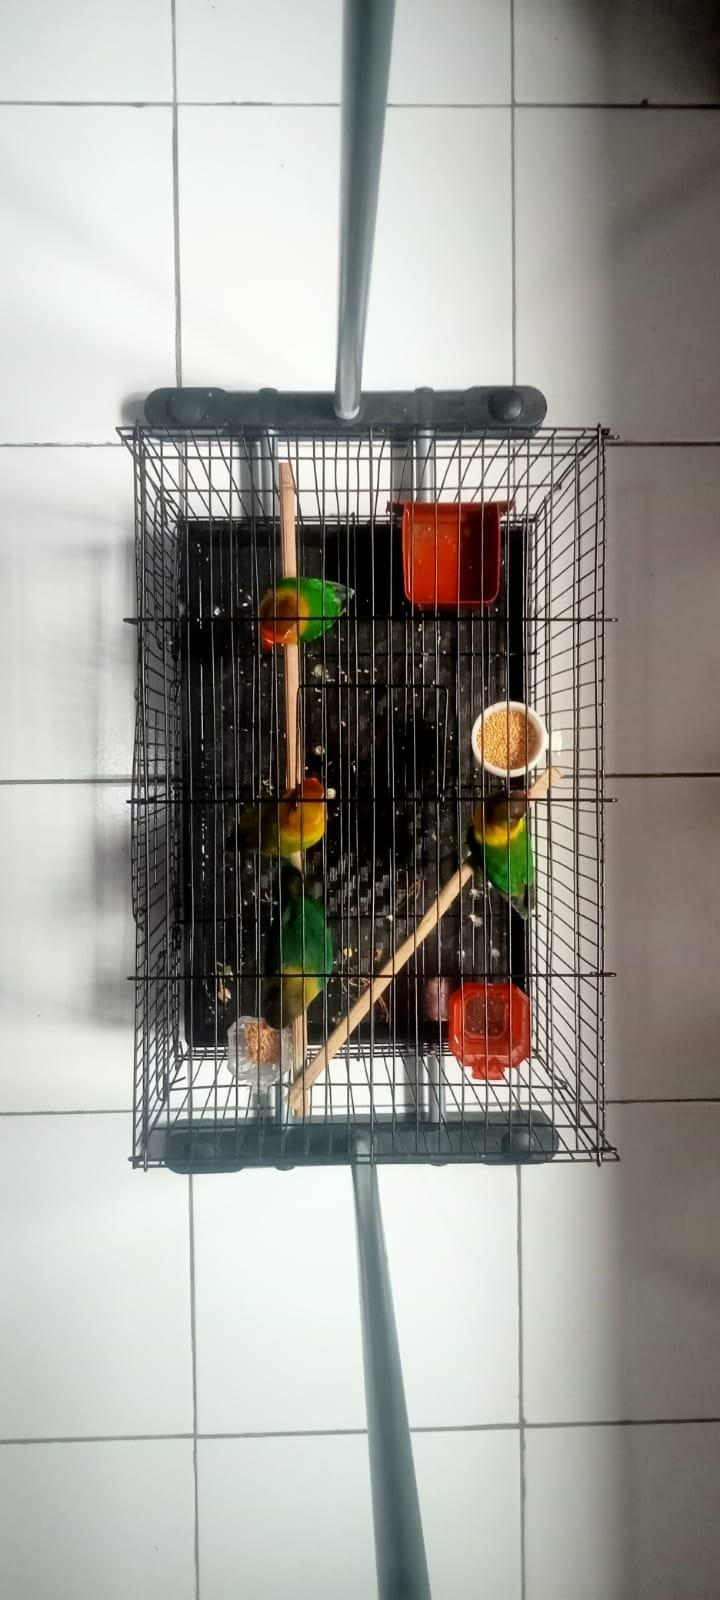LoveBird: (263, 864, 335, 1033), (469, 788, 538, 920), (222, 770, 329, 855), (258, 579, 356, 651)
